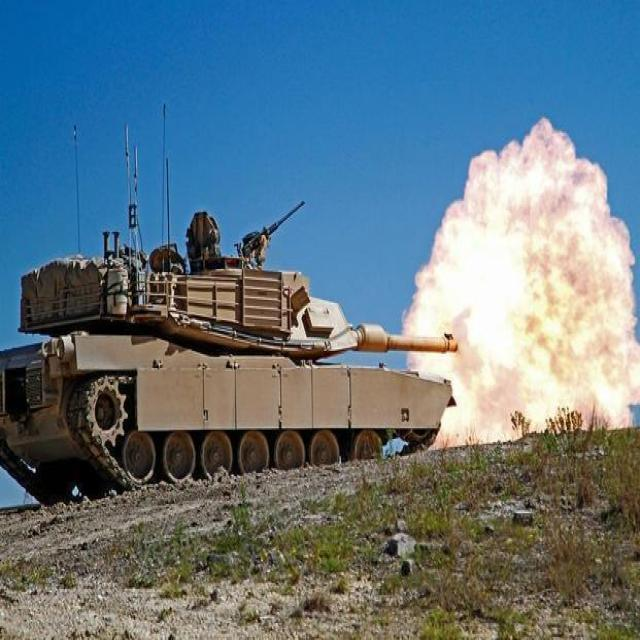MIL_MBT: (2, 104, 482, 547)
